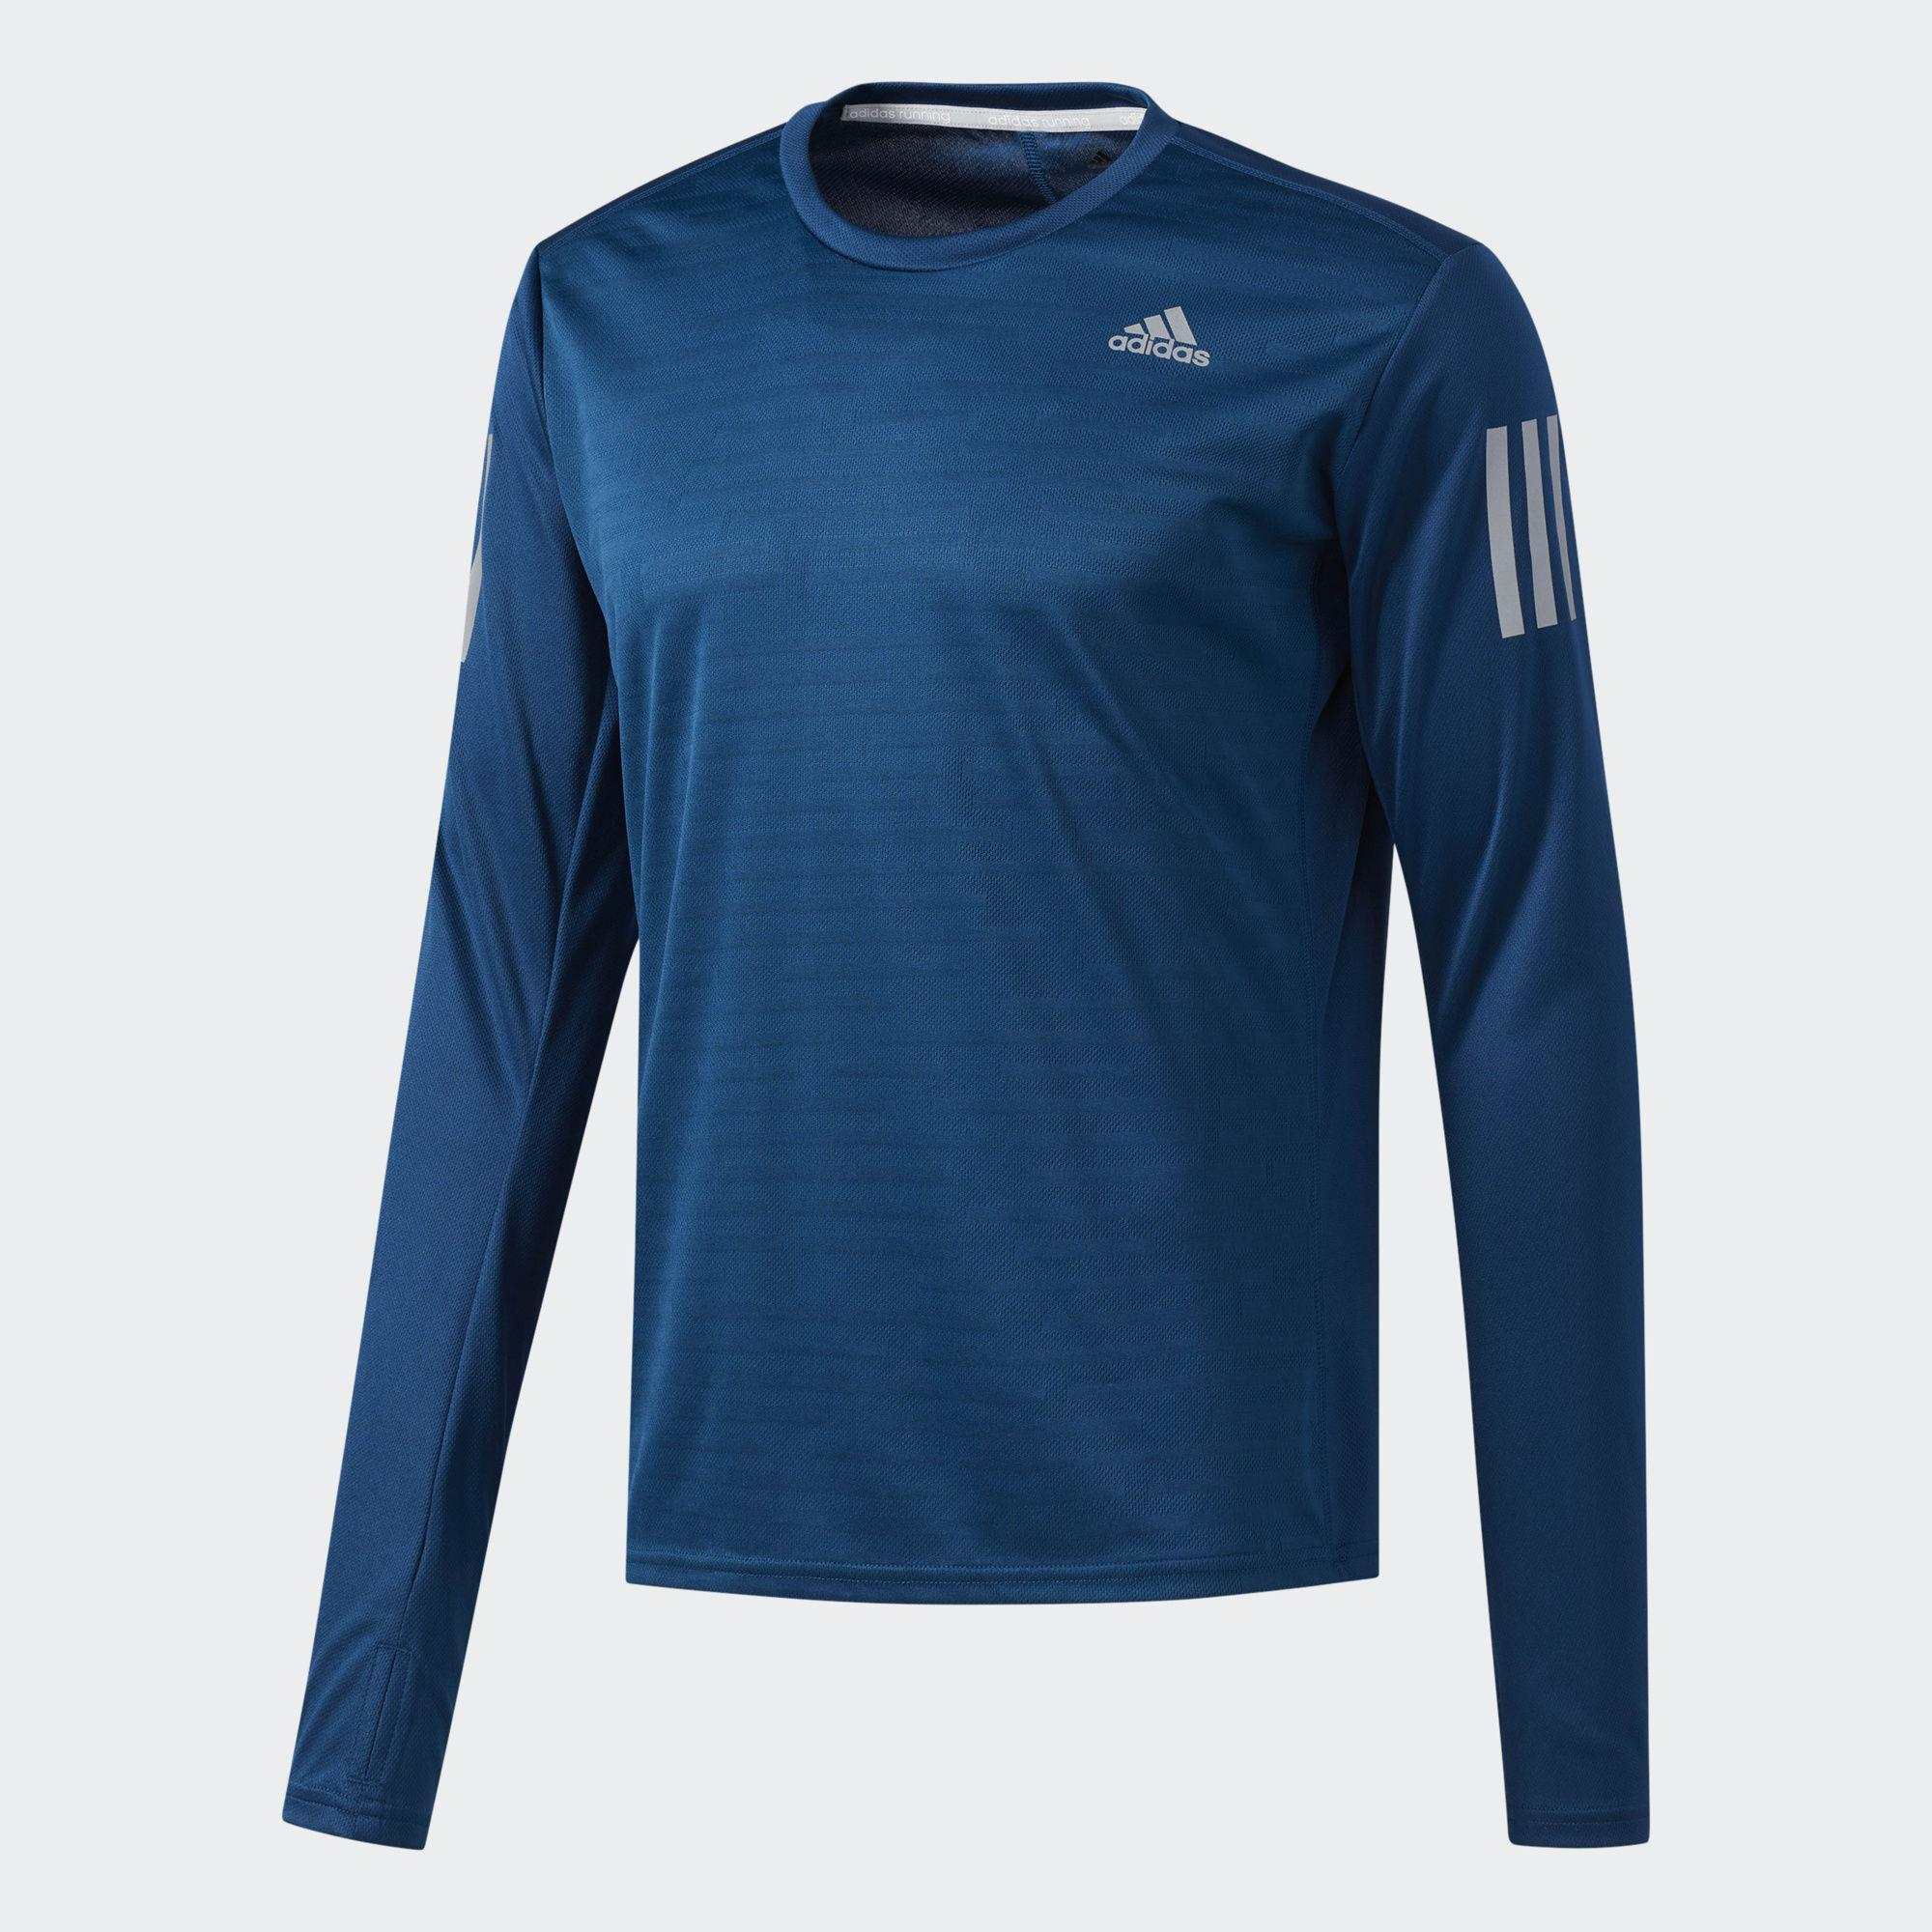teeshirt: (262, 67, 1812, 1932)
